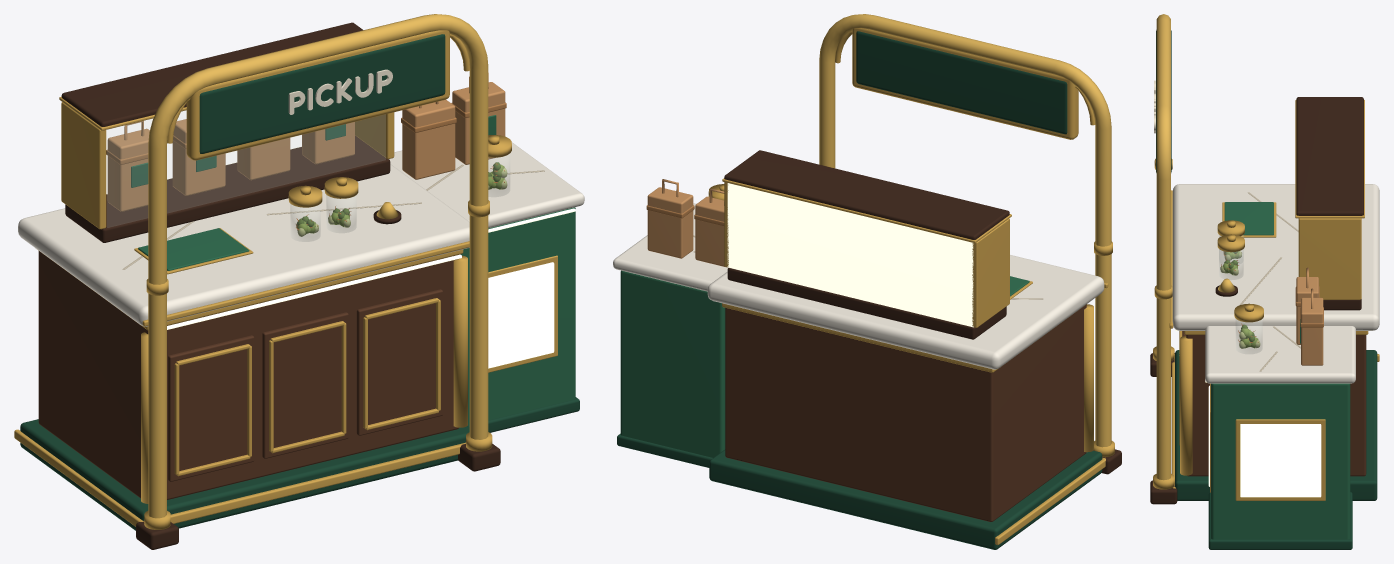
File: pickup_desk_tier4.glb
The picture shows the model from 3 angles, left to right: view 1: azimuth 30°, elevation 25°; view 2: azimuth 150°, elevation 25°; view 3: azimuth 270°, elevation 25°; orthographic projection. The views are drawn at different scales.
Parts seen in each view (by area): view 1: Body, Top, Arch, CaseGlass, Sign, Cabinet, Plinth, Front0, Front1, Front2, CaseBase, CabinetTop (+28 smaller); view 2: Body, CaseBack, Cabinet, Top, Arch, Sign, Plinth, CaseTop, CaseBase, CasePost-0.75, CabinetTop, SignBorder (+7 smaller); view 3: Top, Cabinet, CaseTop, CabinetTop, Arch, LeafPanelSide, CasePost0.45, Body, Plinth, CabinetKick, Column1, LeafPanelSideFrame (+12 smaller).
Part boxes in pixels (x1,y1,x2,y2): Body: (38, 251, 458, 499); Top: (18, 164, 469, 326); Arch: (148, 14, 488, 518); CaseGlass: (107, 111, 385, 227); Sign: (199, 34, 445, 153); Cabinet: (460, 207, 575, 425); Plinth: (20, 419, 469, 530); Front0: (168, 335, 254, 481); Front1: (262, 312, 348, 458); Front2: (356, 289, 442, 435); CaseBase: (65, 135, 390, 242); CabinetTop: (389, 142, 584, 228); Body: (725, 304, 1086, 521); CaseBack: (727, 183, 973, 327); Cabinet: (620, 270, 725, 457); Top: (707, 255, 1104, 369); Arch: (819, 14, 1111, 447); Sign: (856, 31, 1067, 134); Plinth: (709, 449, 1102, 549); CaseTop: (724, 150, 1009, 239); CaseBase: (727, 267, 1006, 339); CasePost-0.75: (972, 218, 1009, 327); CabinetTop: (613, 203, 727, 291); SignBorder: (852, 28, 1078, 139); Top: (1172, 184, 1379, 330); Cabinet: (1211, 383, 1350, 539); CaseTop: (1296, 97, 1363, 215); CabinetTop: (1205, 326, 1355, 383); Arch: (1156, 14, 1170, 480); LeafPanelSide: (1240, 424, 1321, 497); CasePost0.45: (1298, 218, 1361, 299); Body: (1186, 335, 1366, 476); Plinth: (1175, 350, 1377, 500); CabinetKick: (1208, 492, 1352, 549); Column1: (1180, 336, 1192, 475); LeafPanelSideFrame: (1235, 419, 1325, 500).
Size of the model in its own units: 1.96 by 1.83 by 1.02.
